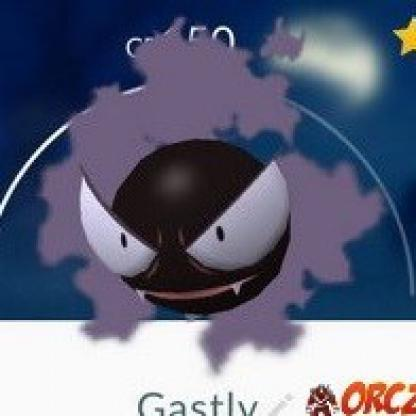Gastly: (50, 19, 389, 368)
